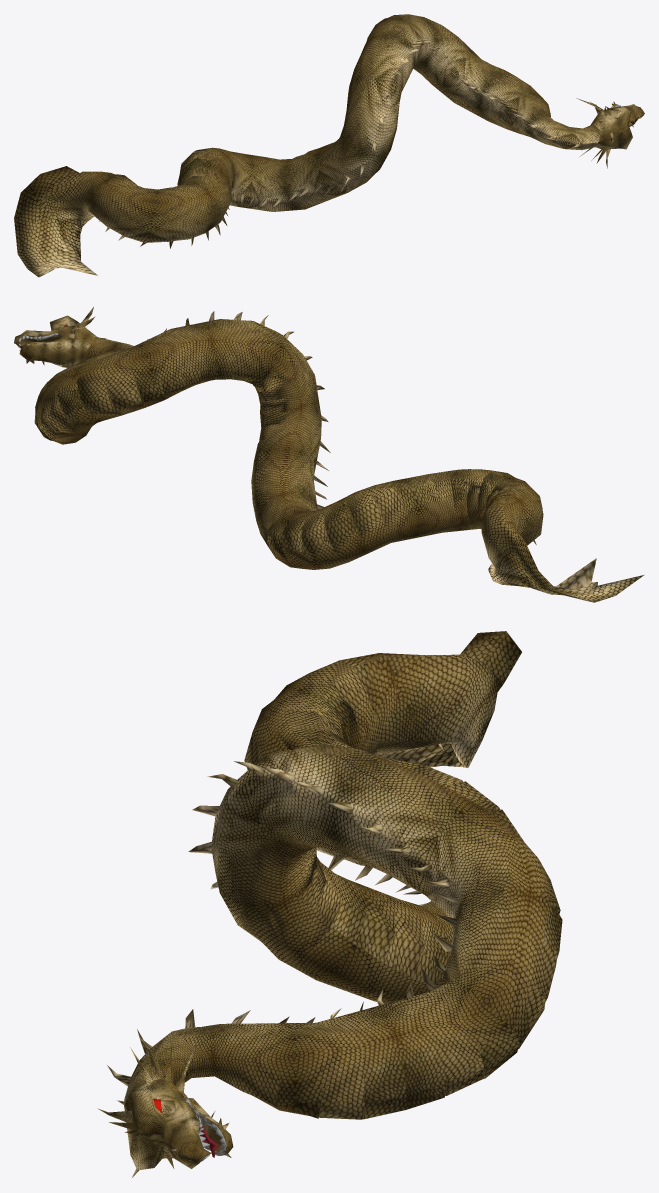
File: surasa_000014.obj
3 views of the same model, one above another, from view 1: azimuth 30°, elevation 25°; view 2: azimuth 150°, elevation 25°; view 3: azimuth 270°, elevation 25° (orthographic). The views are drawn at different scales.
Parts seen in each view (by area): view 1: body_Plane.001; view 2: body_Plane.001; view 3: body_Plane.001.
Boxes of the visible parts, x1,y1,x2,y2 form: body_Plane.001: (14, 14, 644, 277); body_Plane.001: (14, 307, 643, 602); body_Plane.001: (97, 631, 562, 1177).
Bounding box in the file's own units: 61.14 × 16.8 × 21.4.
